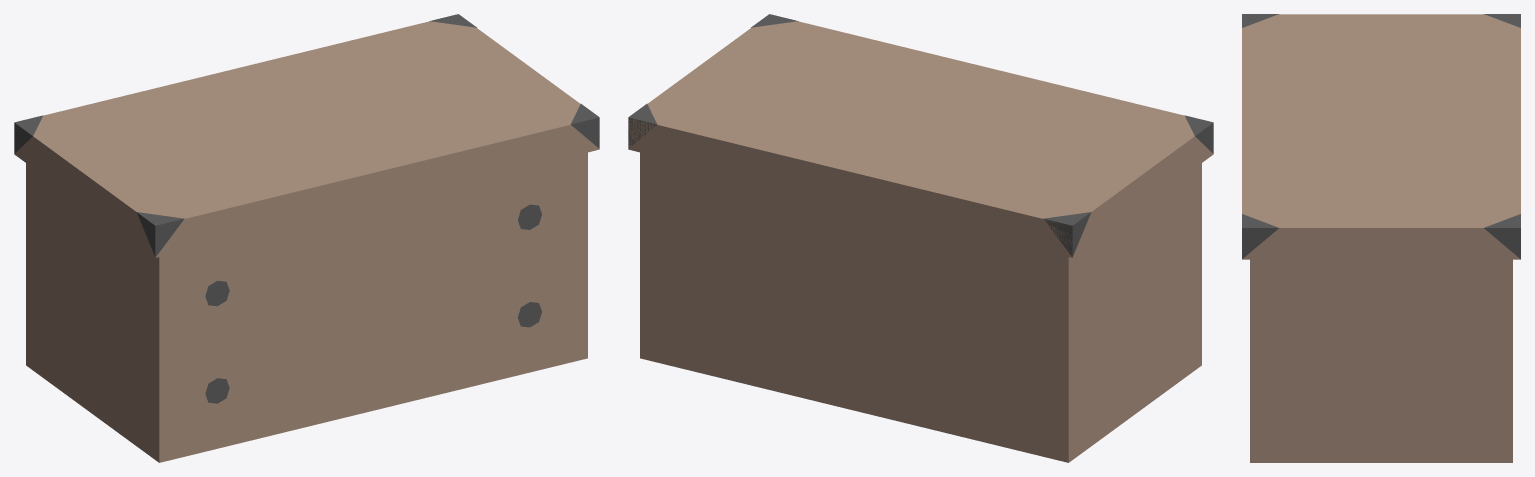
3 views of the same model, side by side, from view 1: azimuth 30°, elevation 25°; view 2: azimuth 150°, elevation 25°; view 3: azimuth 270°, elevation 25° (orthographic).
Visible parts, largest first — view 1: Box_8; view 2: Box_8; view 3: Box_8.
Part boxes in pixels (box(x1,y1,x2,y2)): Box_8: box(14, 14, 599, 462); Box_8: box(628, 14, 1213, 462); Box_8: box(1242, 14, 1520, 462).
Bounding box in the file's own units: 56.61 × 31.17 × 29.45.
